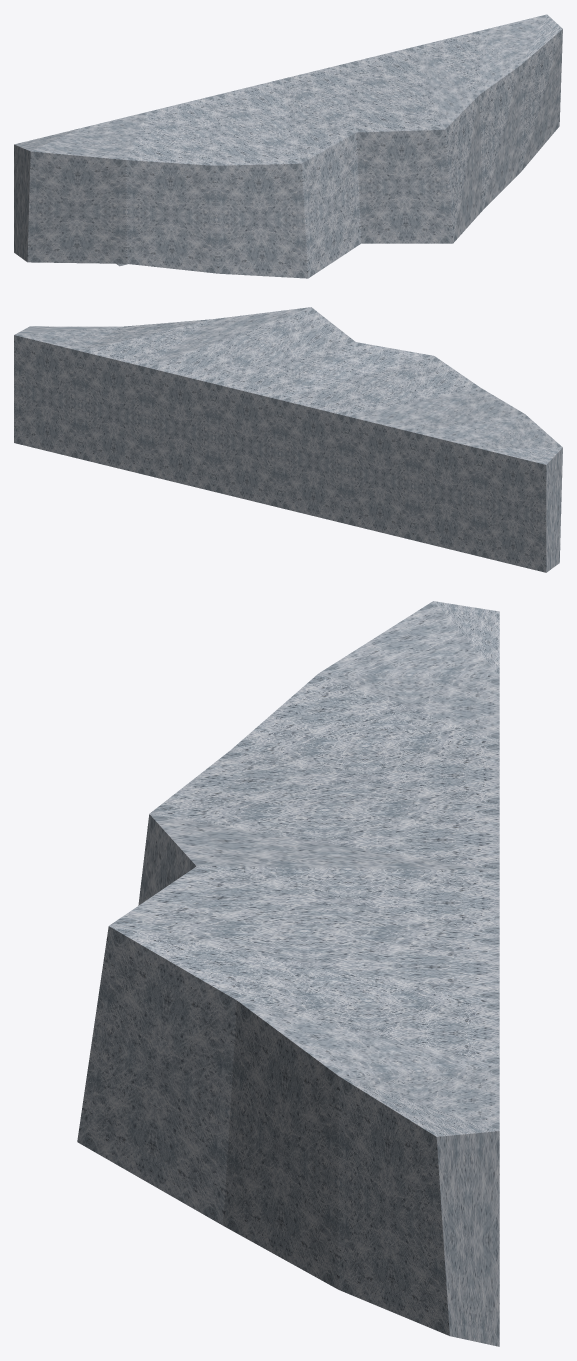
The model's file is rv_ice_ridge.obj.
The picture shows the model from 3 angles, top to bottom: view 1: azimuth 30°, elevation 25°; view 2: azimuth 150°, elevation 25°; view 3: azimuth 270°, elevation 25°; orthographic projection. The views are drawn at different scales.
Visible parts, largest first — view 1: rv_ice_ridge; view 2: rv_ice_ridge; view 3: rv_ice_ridge.
Boxes of the visible parts, left/top/right/bottom form: rv_ice_ridge: left=14, top=14, right=562, bottom=278; rv_ice_ridge: left=14, top=307, right=562, bottom=572; rv_ice_ridge: left=77, top=601, right=499, bottom=1346.
Size of the model in its own units: 16 by 3.53 by 5.5.
1 material, 1 textured.
